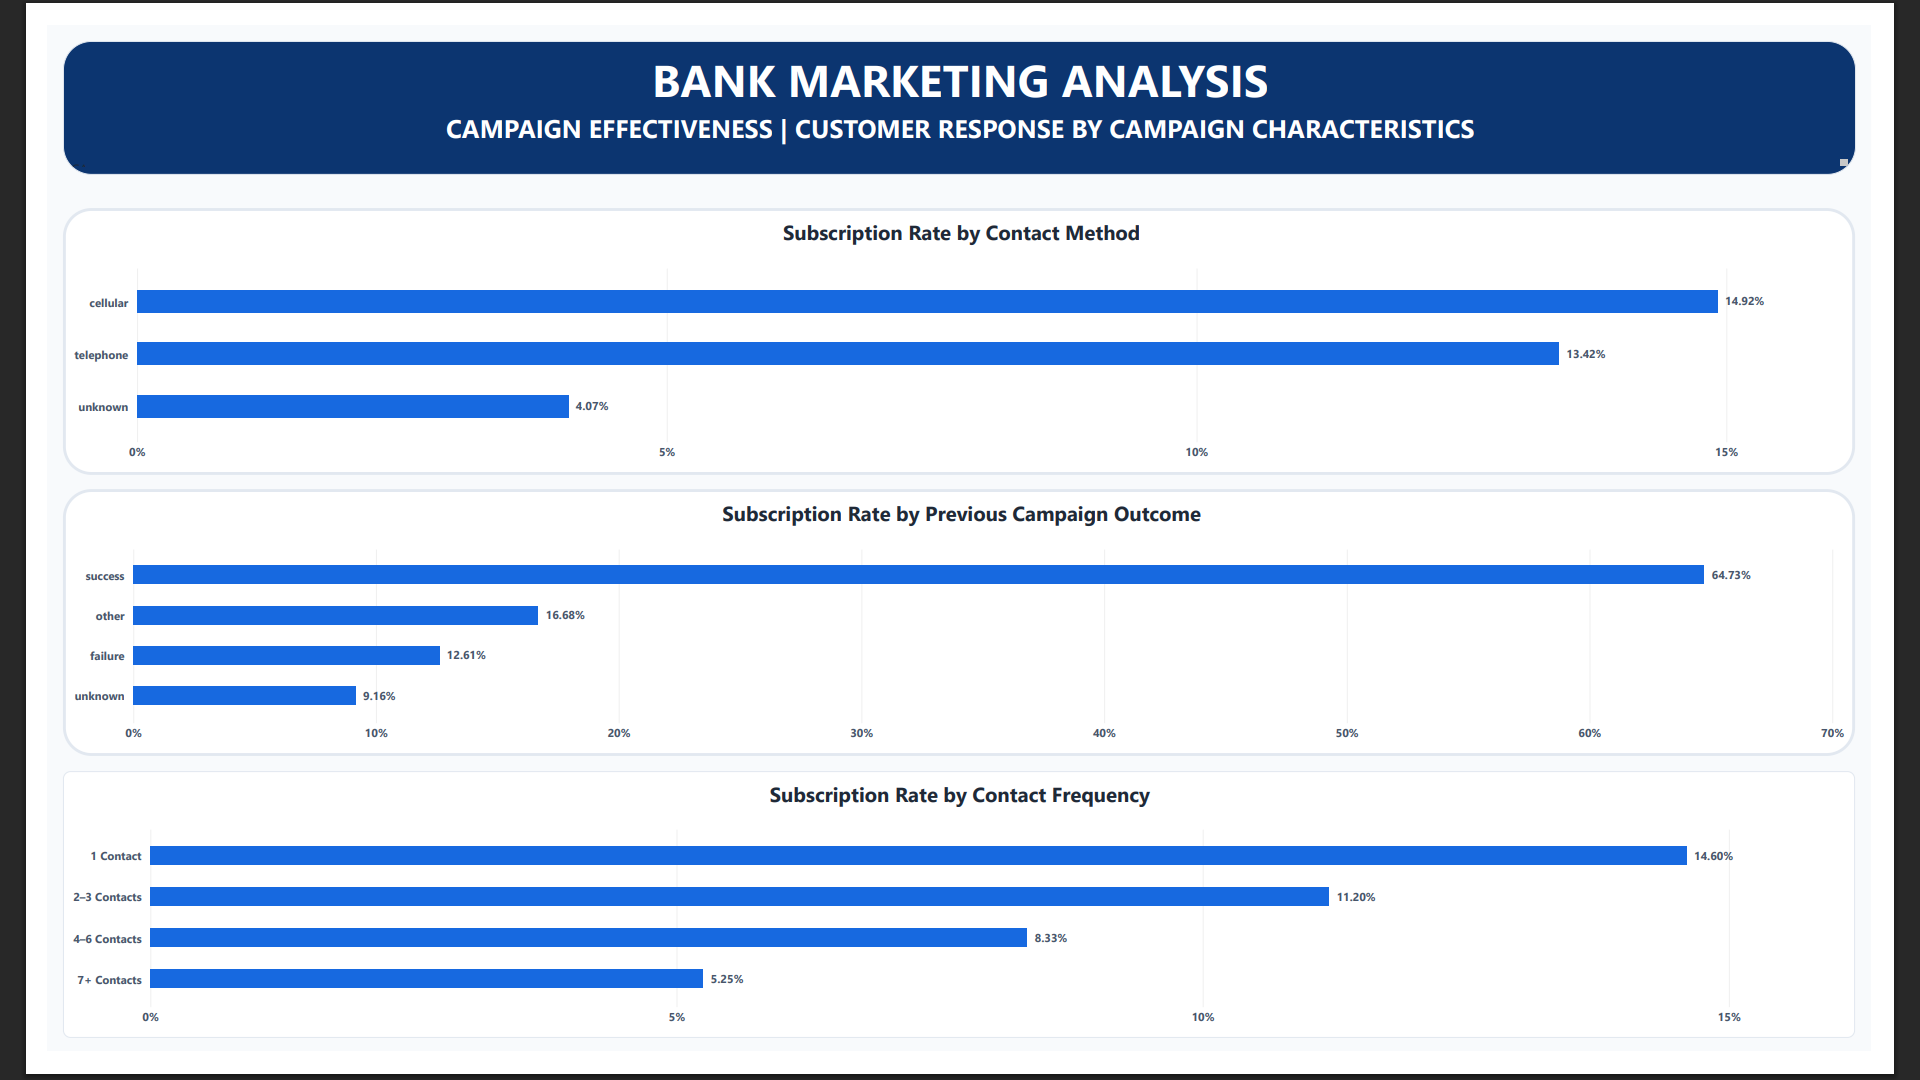

This screenshot's page, from the dashboard's own definition file:
{"tool":"powerbi","page":{"name":"Campaign Effectiveness","canvas":[1920,1080],"ordinal":2},"visuals":[{"type":"clusteredBarChart","title":"Subscription Rate by Contact Method","fields":{"Category":["bank_campaign.contact"],"Y":["bank_campaign.Subscription Rate"]},"box":[15.7,191.9,1887.2,280.8],"z":0},{"type":"clusteredBarChart","title":"Subscription Rate by Contact Frequency ","fields":{"Category":["bank_campaign.Contact Frequency Group"],"Y":["bank_campaign.Subscription Rate"]},"box":[15.7,784.9,1887.2,280.8],"z":1000},{"type":"clusteredBarChart","title":"Subscription Rate by Previous  Campaign Outcome","fields":{"Category":["bank_campaign.poutcome"],"Y":["bank_campaign.Subscription Rate"]},"box":[15.7,488.4,1887.2,280.8],"z":2000},{"type":"textbox","title":"BANK MARKETING ANALYSIS","box":[16.4,15.7,1887.2,141.3],"z":2001}]}

Visuals, with their boxes in screenshot pixels (x1, y1, x2, y2), scaled from the page's 1920x1080 canvas onto the 1920x1080 screenshot:
"Subscription Rate by Contact Method" clusteredBarChart: [left=16, top=192, right=1903, bottom=473]
"Subscription Rate by Contact Frequency " clusteredBarChart: [left=16, top=785, right=1903, bottom=1066]
"Subscription Rate by Previous  Campaign Outcome" clusteredBarChart: [left=16, top=488, right=1903, bottom=769]
"BANK MARKETING ANALYSIS" textbox: [left=16, top=16, right=1904, bottom=157]
